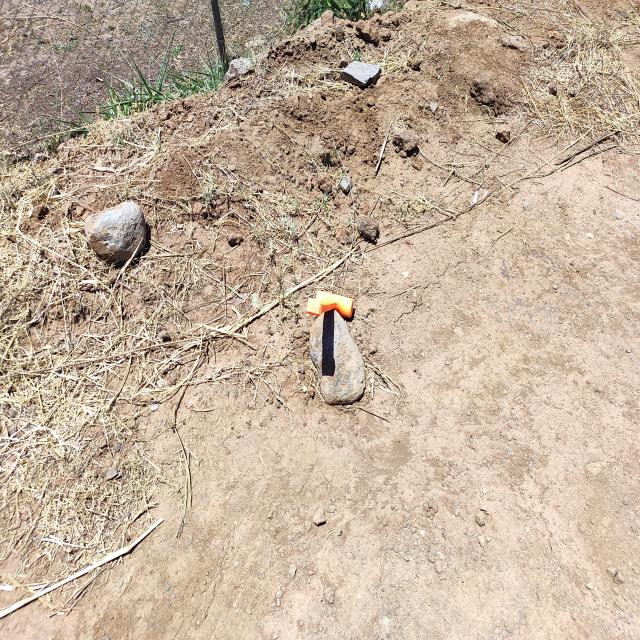Orange_hammer: (306, 290, 355, 320)
